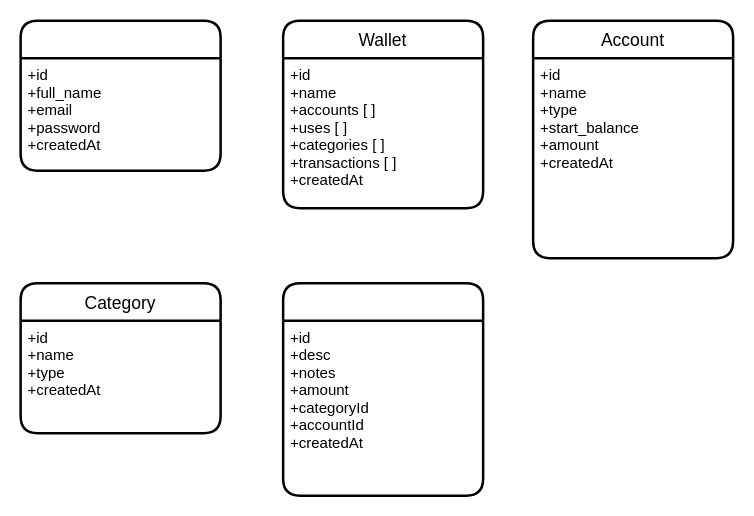
This 754x516 diagram has some shape labels left out. The shapes that lost their labels are listed below. From the top down, each one's box as (x1, y1, x2, y2) in pixels, then its label:
(19, 19, 221, 171): User
(281, 281, 484, 496): Transaction
